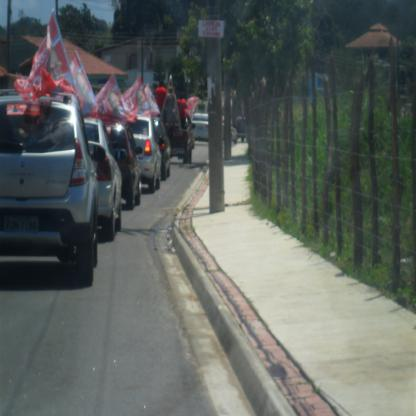Car: (0, 86, 248, 288)
